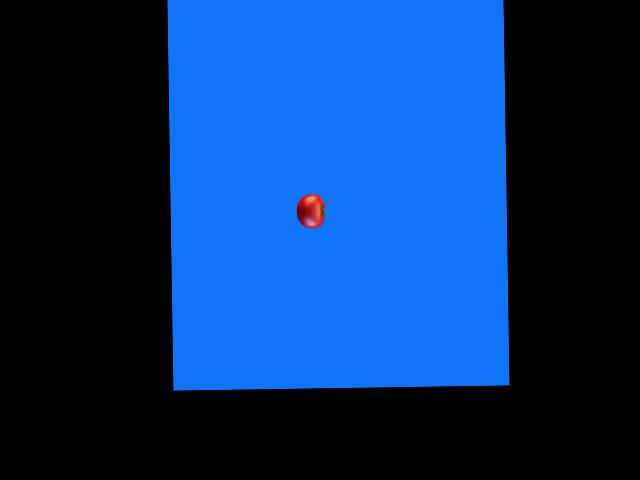tomato: (296, 194, 324, 229)
